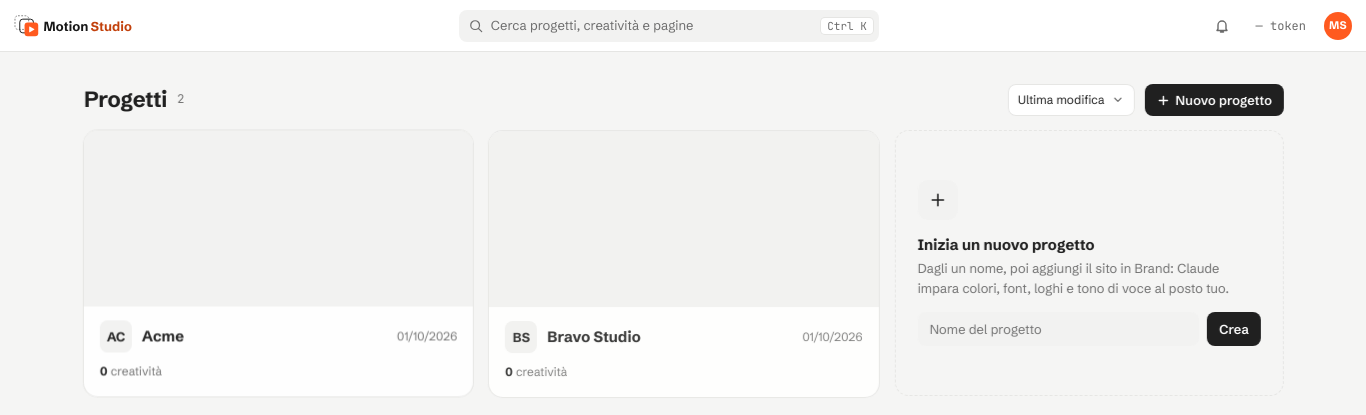
Scenario: activity center › opens on Running when nothing needs the user, with designed empty states
This screenshot has width=1366, height=415.
Click the button named "Attività": x=1222, y=26 [1206,10,1238,42]
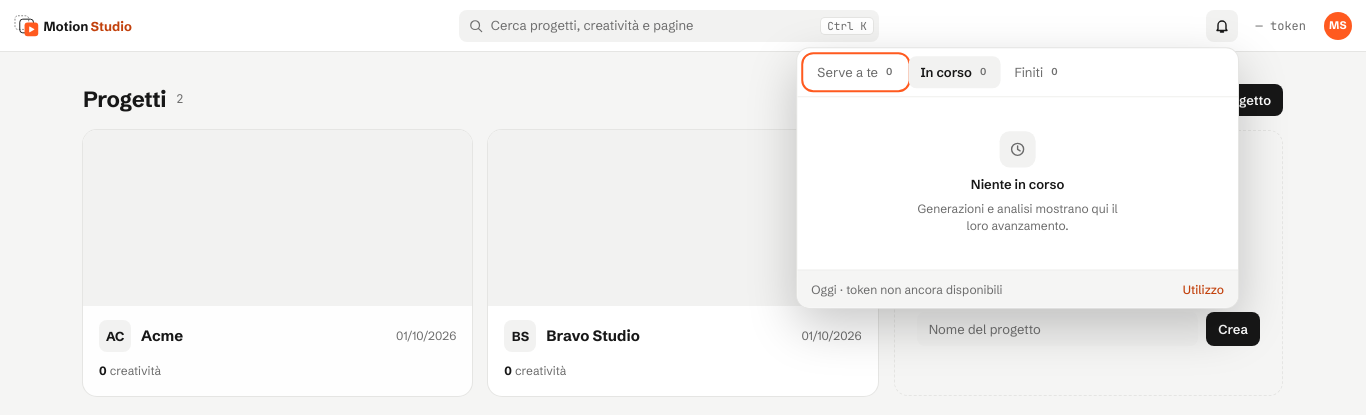
Expected: the tab "In corso 0" is shown, [908,56,1000,88]
Expected: the text "Niente in corso" is shown, [970,175,1064,194]
Press Escape
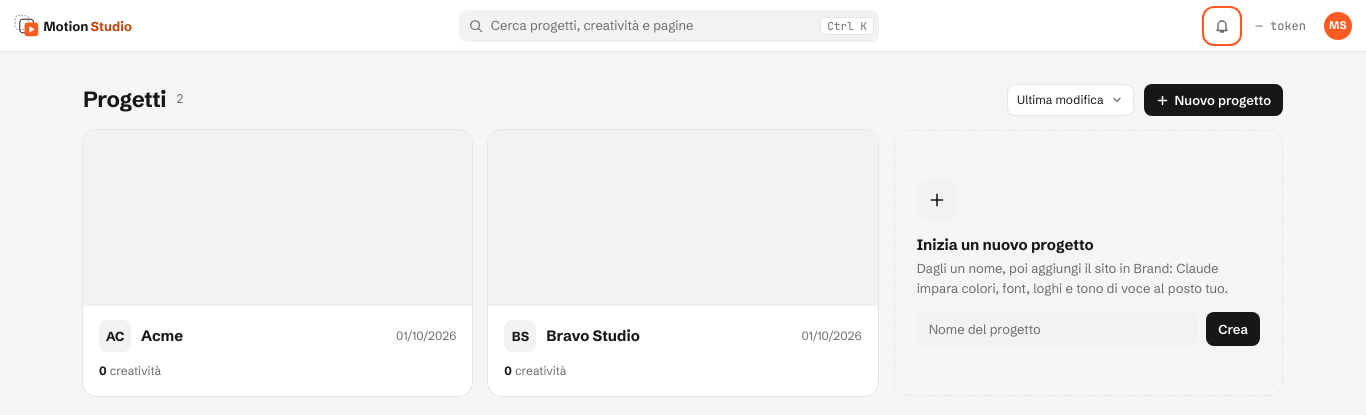
Expected: the text "Serve a te 0 In corso 0 Finiti 0" is gone
